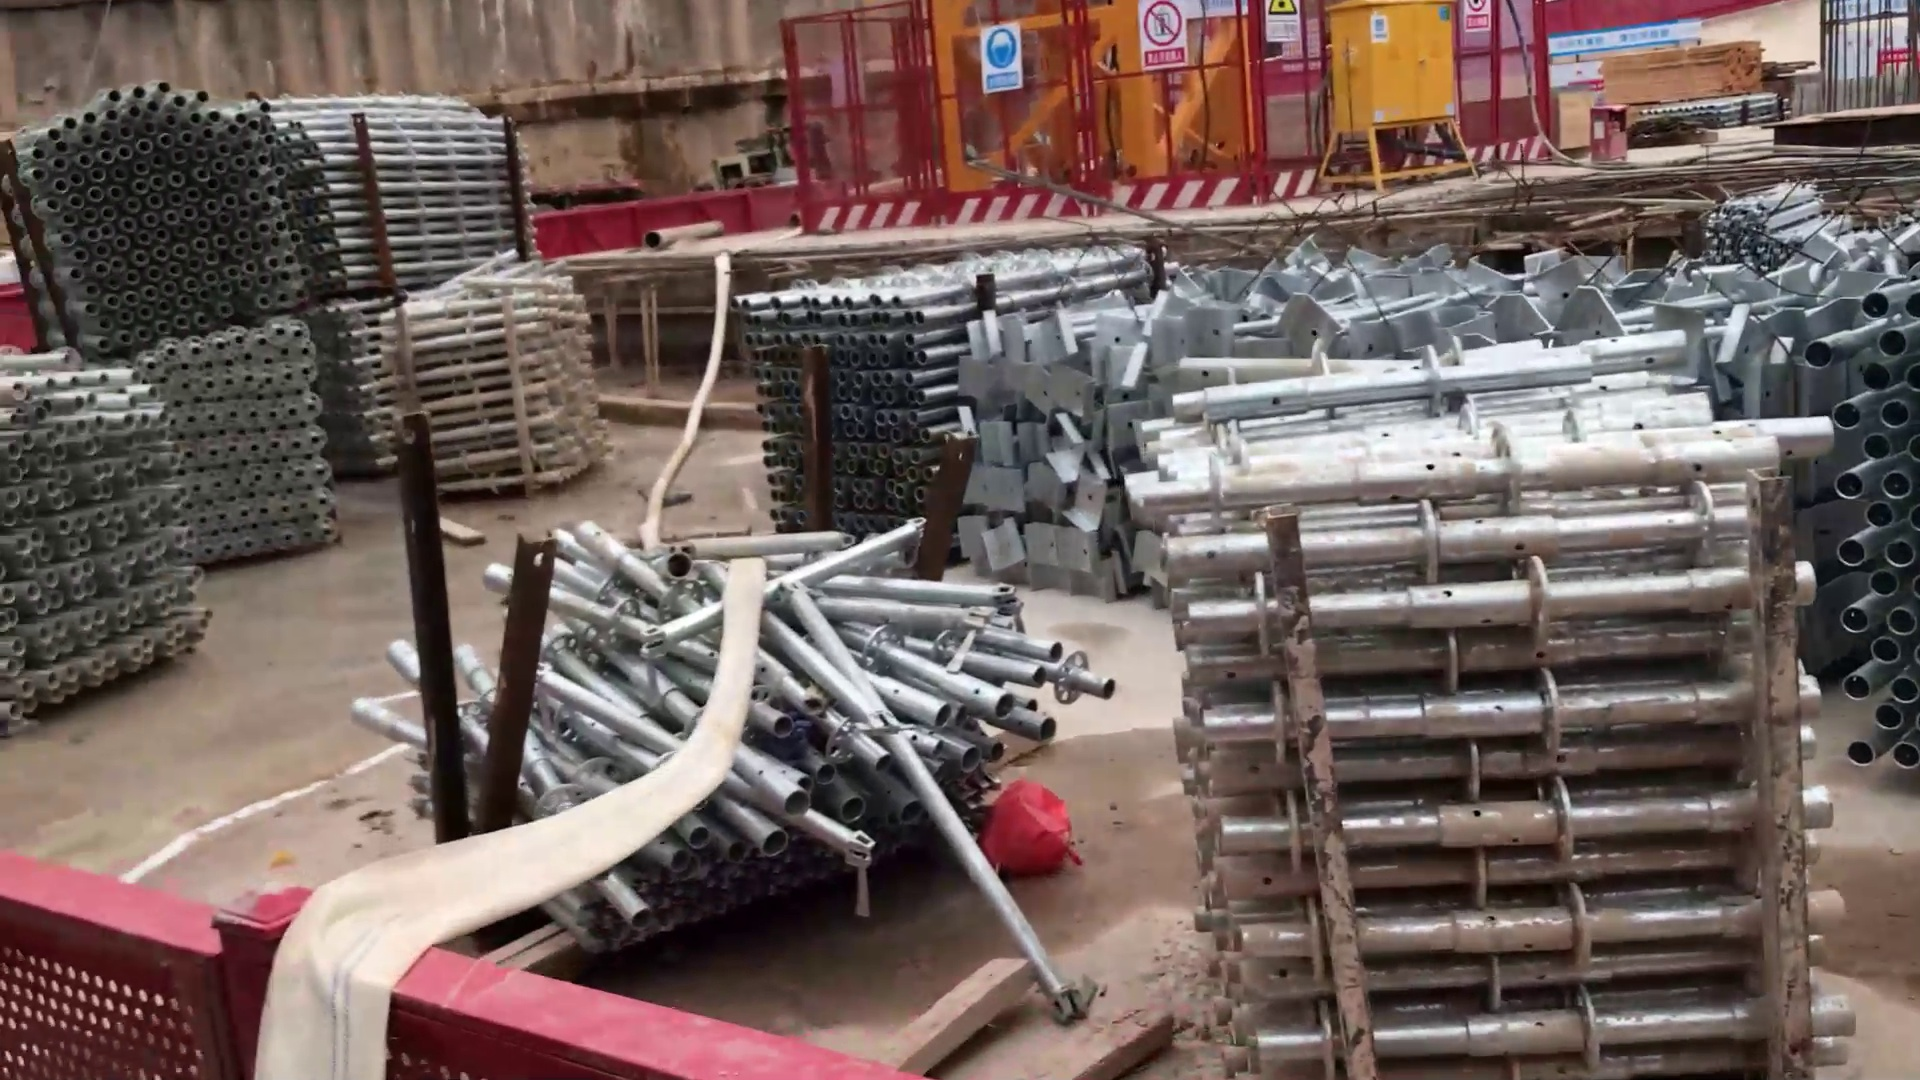ebox: (1309, 1, 1480, 196)
fence: (22, 857, 738, 1080), (778, 17, 1276, 214)
scaffold: (1145, 349, 1875, 1080), (401, 502, 1083, 956), (738, 247, 1149, 592), (34, 73, 535, 355), (1, 364, 212, 738), (356, 278, 607, 497), (144, 324, 353, 572)
slogan: (977, 20, 1036, 105), (1544, 20, 1712, 49), (1135, 1, 1191, 86), (1253, 1, 1305, 59), (1465, 1, 1497, 47)
wood: (1604, 26, 1767, 104)
